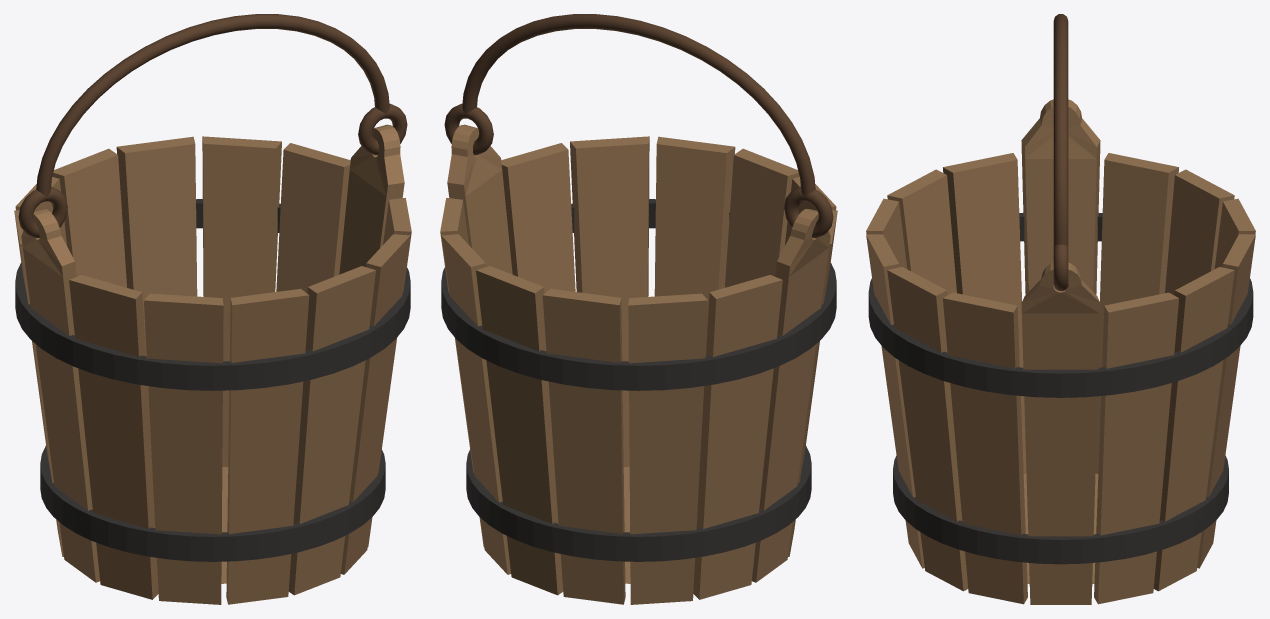
The model's file is Bucket.fbx.
3 views of the same model, side by side, from view 1: azimuth 30°, elevation 25°; view 2: azimuth 150°, elevation 25°; view 3: azimuth 270°, elevation 25° (orthographic). The views are drawn at different scales.
Visible parts, largest first — view 1: bucket_wood, bucket_bronze, bucket_leather; view 2: bucket_wood, bucket_bronze, bucket_leather; view 3: bucket_wood, bucket_bronze, bucket_leather.
Part boxes in pixels (x1=…): bucket_wood: x1=14, y1=124, x2=411, y2=604; bucket_bronze: x1=15, y1=199, x2=410, y2=561; bucket_leather: x1=18, y1=14, x2=407, y2=238; bucket_wood: x1=440, y1=124, x2=837, y2=604; bucket_bronze: x1=441, y1=199, x2=836, y2=561; bucket_leather: x1=444, y1=14, x2=833, y2=238; bucket_wood: x1=866, y1=99, x2=1255, y2=604; bucket_bronze: x1=868, y1=213, x2=1253, y2=564; bucket_leather: x1=1053, y1=14, x2=1068, y2=290.
Bounding box in the file's own units: 0.3564 × 0.4557 × 0.3199.
